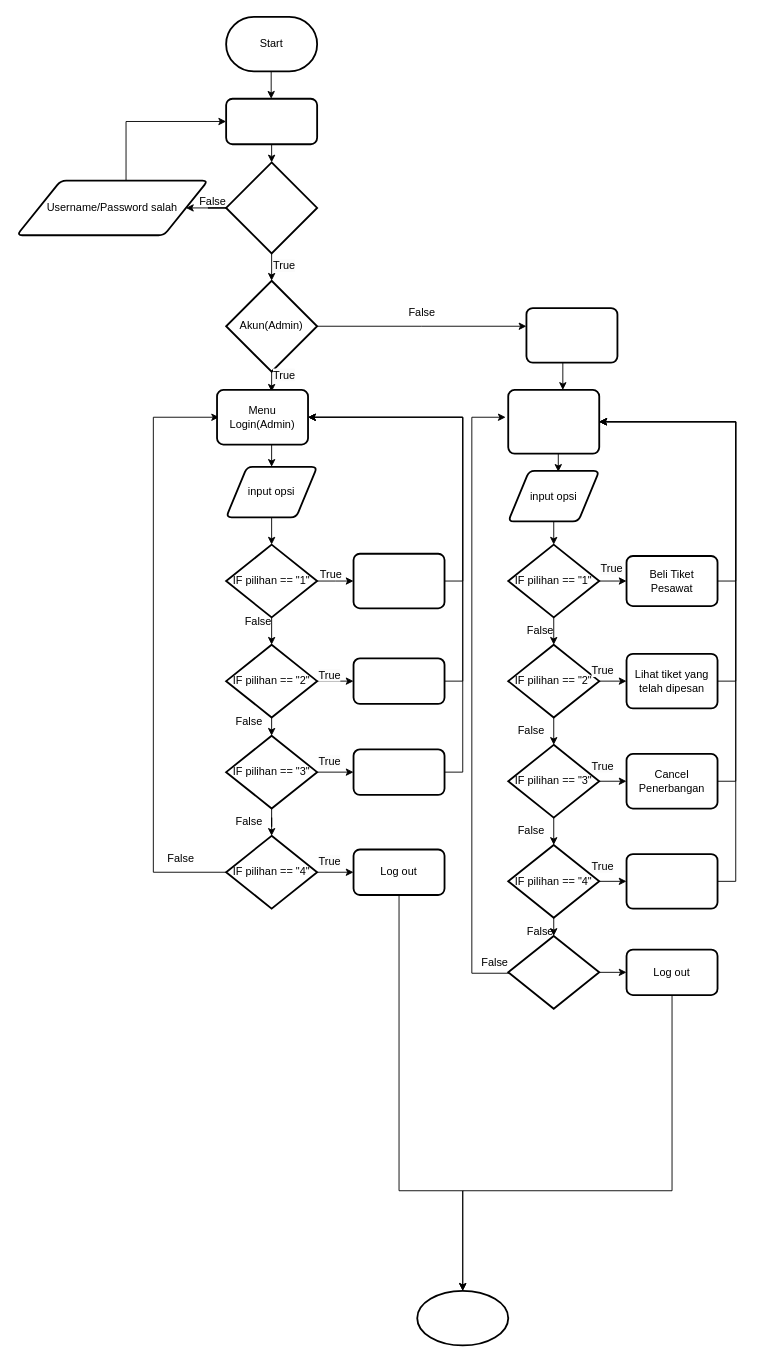
Some shapes in this 759 by 1361 pixel diagram are drawn without their labels. The shapes that lost their labels are listed below. From the top down, each one's centre as x and y in pixels, then its label:
pixel 271 121: Menu Login Awal
pixel 271 207: Akun dibuat
pixel 571 335: Akun(User)
pixel 553 421: Menu Login(User)
pixel 398 580: Tambah Jadwal Penerbangan
pixel 398 680: Lihat jadwal penerbangan
pixel 398 771: Menghapus jadwal
pixel 671 881: Lihat jadwal yang ada
pixel 553 972: IF pilihan == "5"
pixel 462 1317: End
